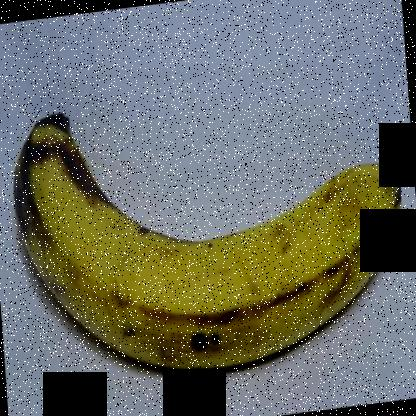ripe: (1, 93, 409, 382)
